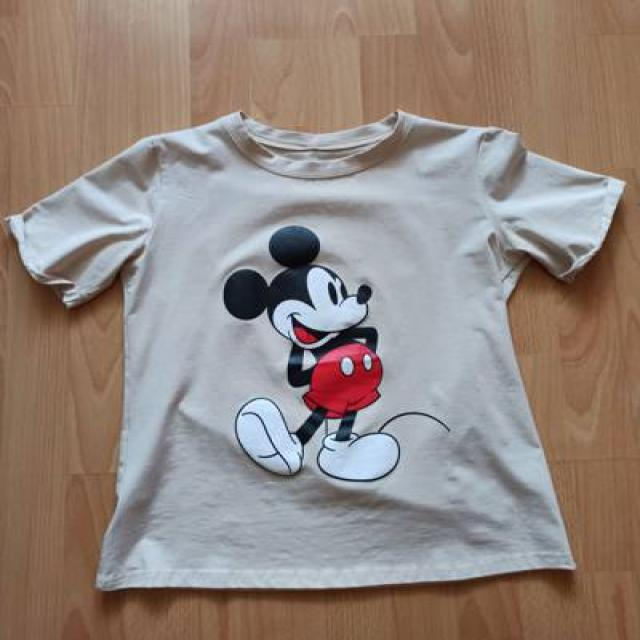Clothes -Biodegradable-: (12, 111, 631, 589)
